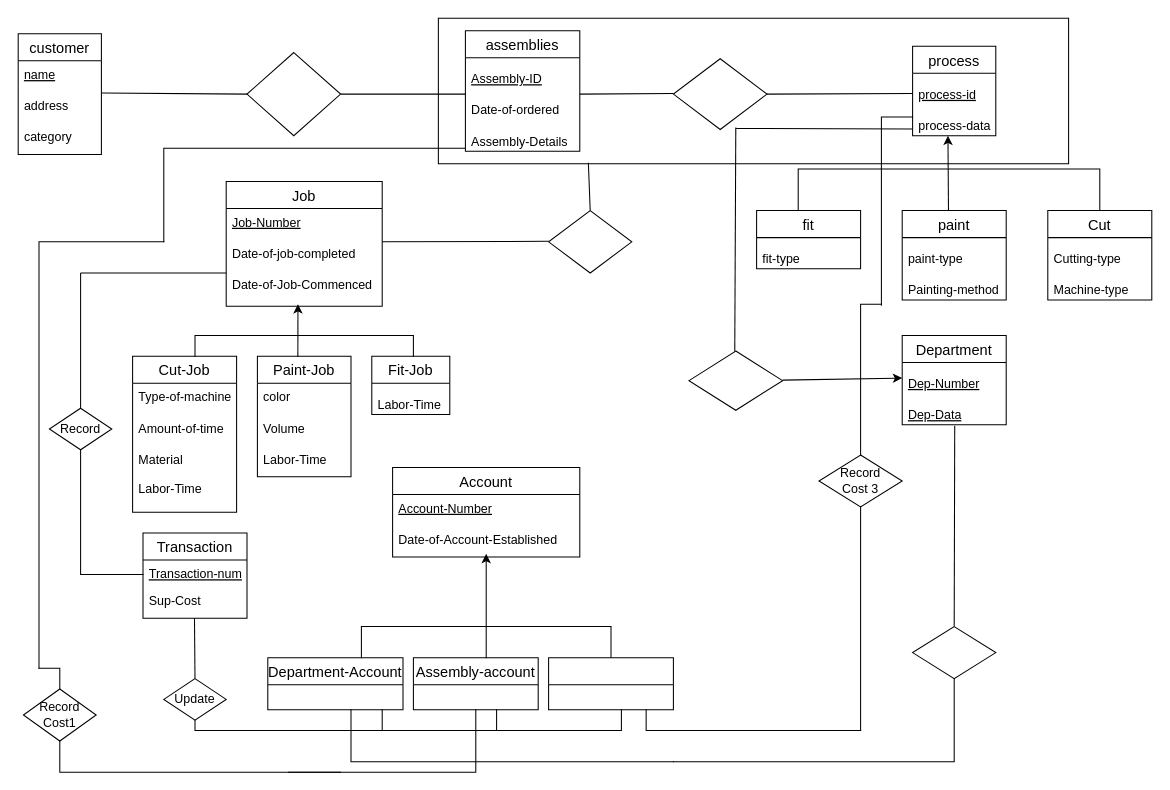
Image size: 1170x790. Some labels were removed from this diagram. The centre of each missing label's shape, as x and y in pixels:
"assign" belongs at (x=590, y=241).
"order" belongs at (x=293, y=93).
"pass through" belongs at (x=719, y=93).
"Process-Account" belongs at (x=610, y=683).
"Record Cost 2" belongs at (x=954, y=652).
"suprvise" belongs at (x=735, y=380).
